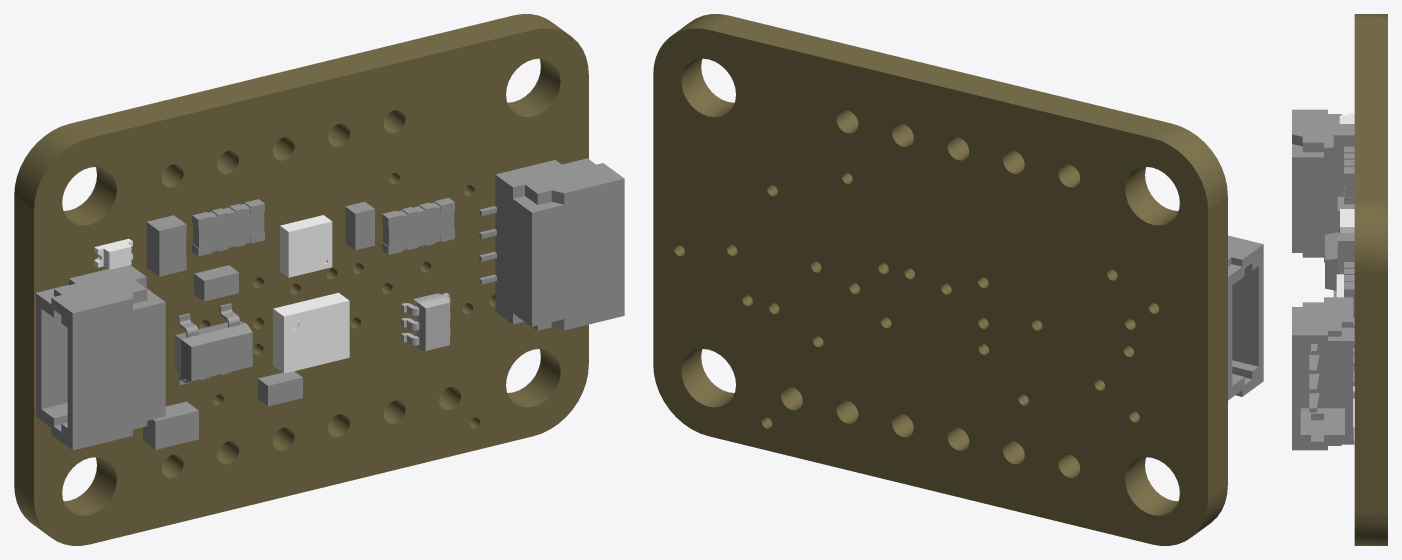
Rendered from 5543 LSM6DS3-LIS3MDL.gltf.
The picture shows the model from 3 angles, left to right: view 1: azimuth 30°, elevation 25°; view 2: azimuth 150°, elevation 25°; view 3: azimuth 270°, elevation 25°; orthographic projection. The views are drawn at different scales.
Visible parts, largest first — view 1: Board, JST_SH4 (×2), RESPACK_4X0603 (×2), LGA-14L, SOT23-5, 0805-NO (×2), 0603-NO (×3), LGA12_2X2MM, SOT363, CHIPLED_0603_NOOUTLINE; view 2: Board, JST_SH4; view 3: Board, JST_SH4 (×2), RESPACK_4X0603 (×2), 0805-NO, 0603-NO (×2), SOT23-5, LGA12_2X2MM, LGA-14L, CHIPLED_0603_NOOUTLINE.
Boxes of the visible parts, left/top/right/bottom form: Board: left=14, top=14, right=588, bottom=545; JST_SH4 (×2): left=35, top=158, right=624, bottom=450; RESPACK_4X0603 (×2): left=192, top=197, right=454, bottom=256; LGA-14L: left=273, top=292, right=349, bottom=373; SOT23-5: left=175, top=303, right=252, bottom=385; 0805-NO (×2): left=143, top=215, right=198, bottom=449; 0603-NO (×3): left=194, top=201, right=374, bottom=406; LGA12_2X2MM: left=280, top=215, right=332, bottom=277; SOT363: left=401, top=293, right=450, bottom=350; CHIPLED_0603_NOOUTLINE: left=94, top=238, right=132, bottom=269; Board: left=653, top=14, right=1227, bottom=545; JST_SH4: left=1228, top=235, right=1263, bottom=400; Board: left=1354, top=14, right=1387, bottom=545; JST_SH4 (×2): left=1292, top=109, right=1354, bottom=450; RESPACK_4X0603 (×2): left=1344, top=146, right=1354, bottom=317; 0805-NO: left=1333, top=124, right=1354, bottom=173; 0603-NO (×2): left=1337, top=196, right=1354, bottom=271; SOT23-5: left=1325, top=229, right=1343, bottom=290; LGA12_2X2MM: left=1340, top=209, right=1354, bottom=232; LGA-14L: left=1336, top=274, right=1354, bottom=348; CHIPLED_0603_NOOUTLINE: left=1339, top=113, right=1354, bottom=123.
Bounding box in the file's own units: 25.4 × 17.78 × 4.53.
